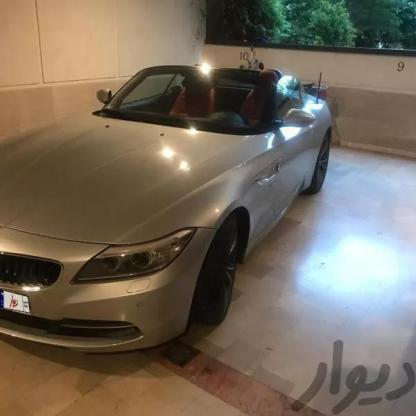Car: (0, 40, 320, 370)
